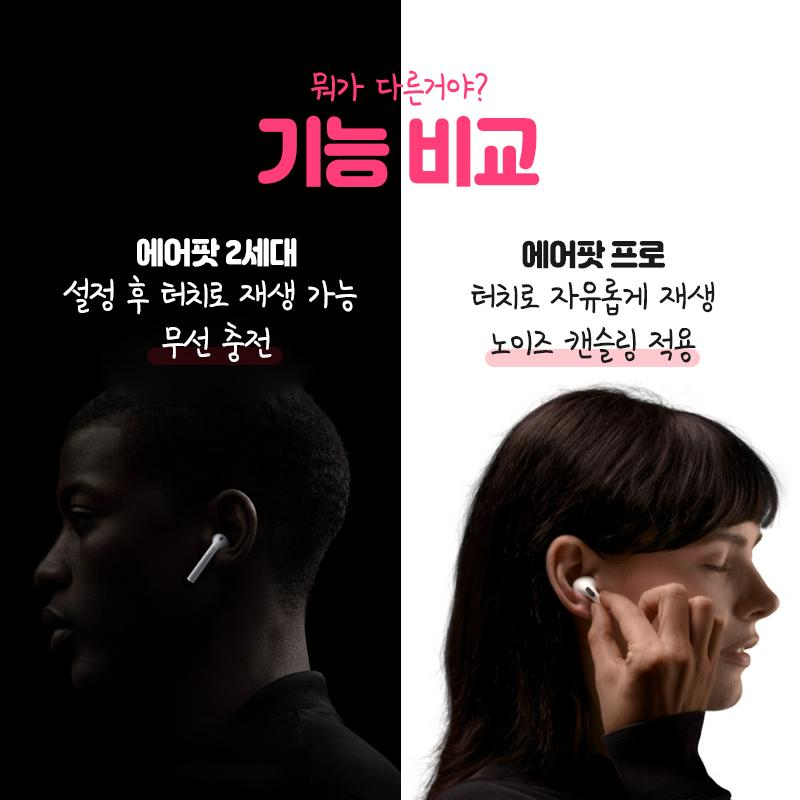earphone: (560, 564, 616, 632), (181, 528, 231, 585)
